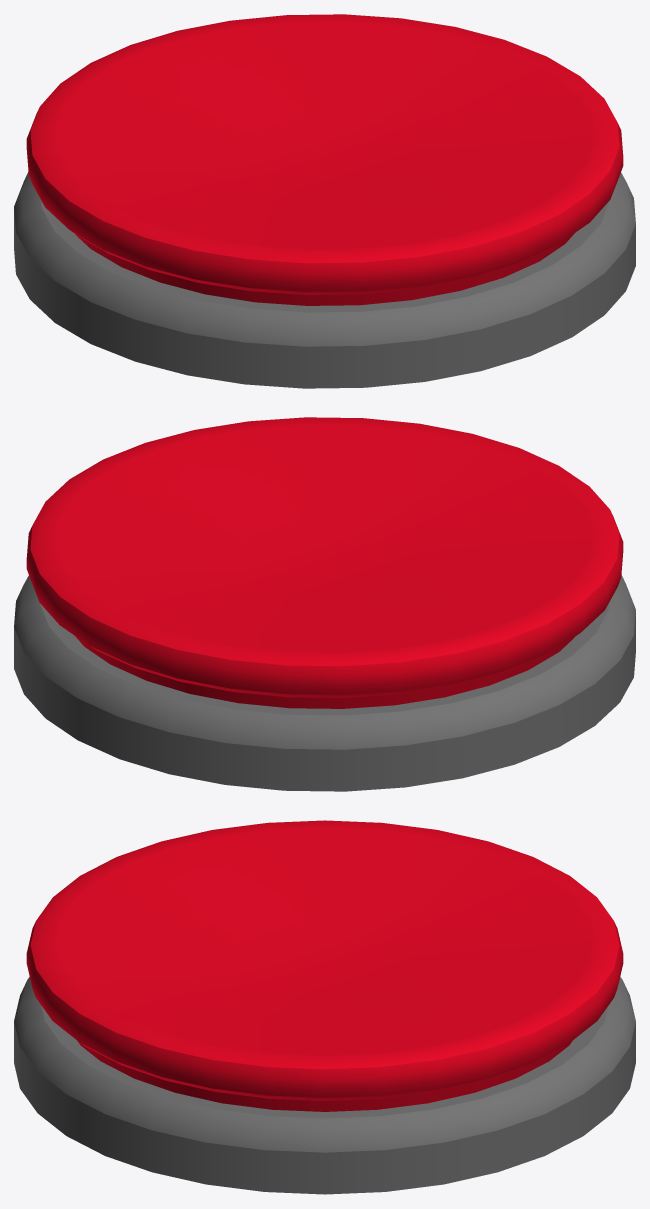
Rendered from BUTTON.fbx.
3 renders of one model, top to bottom at view 1: azimuth 30°, elevation 25°; view 2: azimuth 150°, elevation 25°; view 3: azimuth 270°, elevation 25°, orthographic.
Parts seen in each view (by area): view 1: Interface, Housing; view 2: Interface, Housing; view 3: Interface, Housing.
Part boxes in pixels (box(x1,y1,x2,y2)): Interface: box(26, 14, 623, 305); Housing: box(14, 172, 635, 388); Interface: box(26, 417, 623, 708); Housing: box(14, 575, 635, 791); Interface: box(26, 820, 623, 1111); Housing: box(14, 977, 635, 1194).
Size of the model in its own units: 200 by 43.09 by 200.
